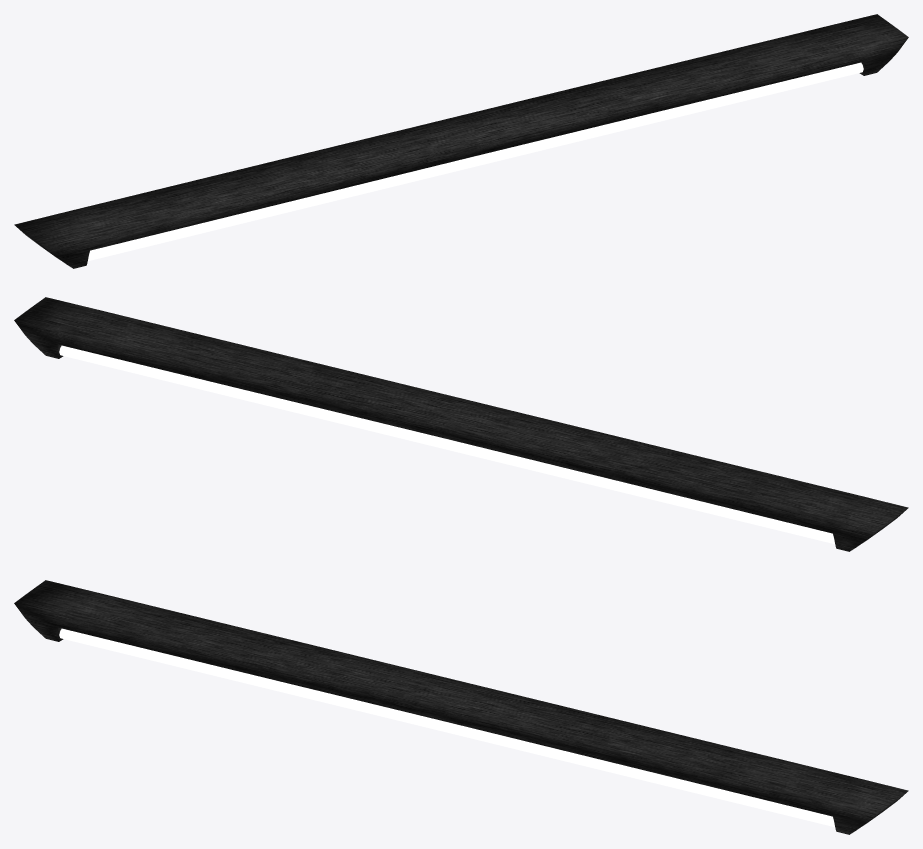
Rendered from Lights.fbx.
3 renders of one model, top to bottom at view 1: azimuth 30°, elevation 25°; view 2: azimuth 150°, elevation 25°; view 3: azimuth 330°, elevation 25°, orthographic.
Visible parts, largest first — view 1: ParkingLight; view 2: ParkingLight; view 3: ParkingLight.
Boxes of the visible parts, left/top/right/bottom form: ParkingLight: left=14, top=14, right=908, bottom=268; ParkingLight: left=14, top=297, right=908, bottom=551; ParkingLight: left=14, top=580, right=908, bottom=834.
Size of the model in its own units: 298 by 9.96 by 19.45.
Materials: 1 (1 with a texture image).
